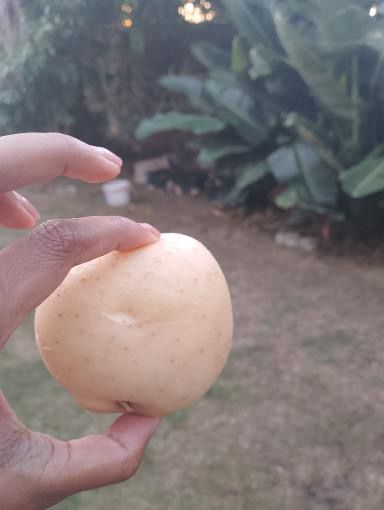potato: (62, 238, 256, 404)
